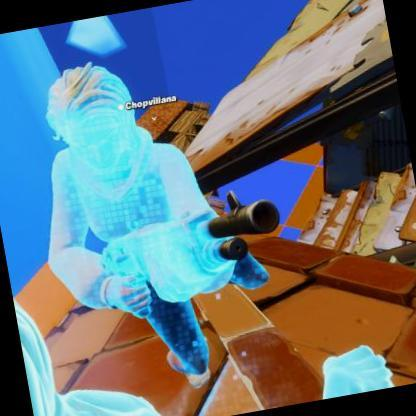person: (0, 10, 324, 416)
